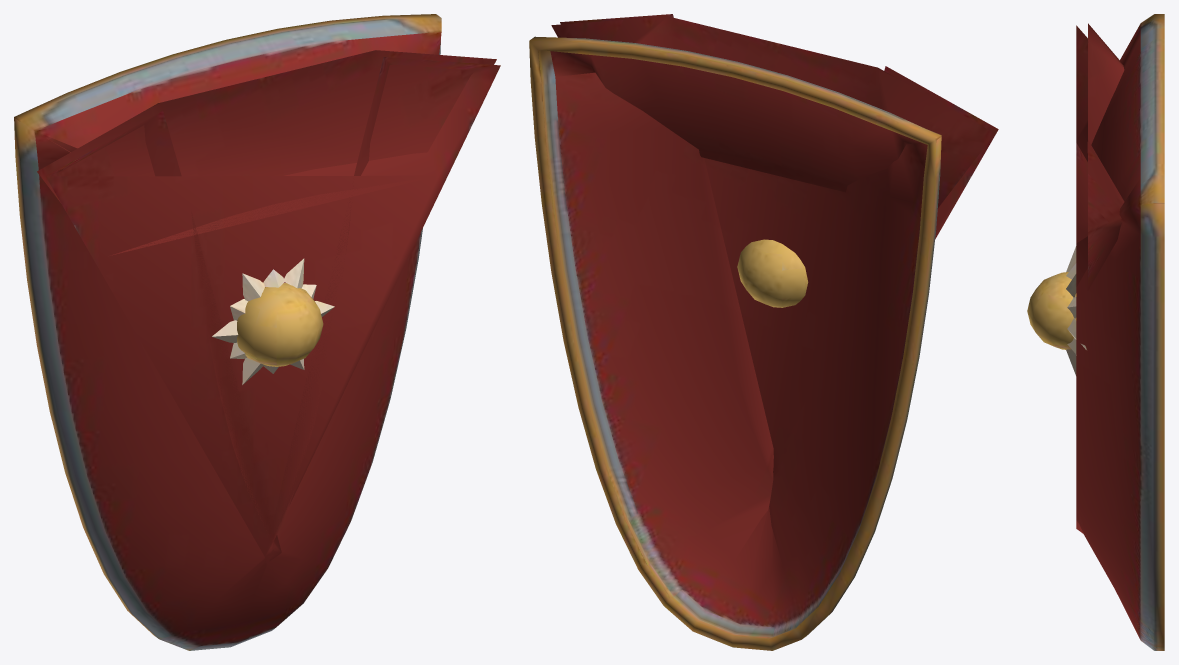
File: schild.glb
The picture shows the model from 3 angles, left to right: view 1: azimuth 30°, elevation 25°; view 2: azimuth 150°, elevation 25°; view 3: azimuth 270°, elevation 25°; orthographic projection. The views are drawn at different scales.
Visible parts, largest first — view 1: schild; view 2: schild; view 3: schild.
Part boxes in pixels (<box>): schild: <box>14,14,500,650</box>; schild: <box>529,14,998,650</box>; schild: <box>1027,14,1164,650</box>.
Size of the model in its own units: 0.5672 by 0.71 by 0.16.
3 materials, 3 textured.
